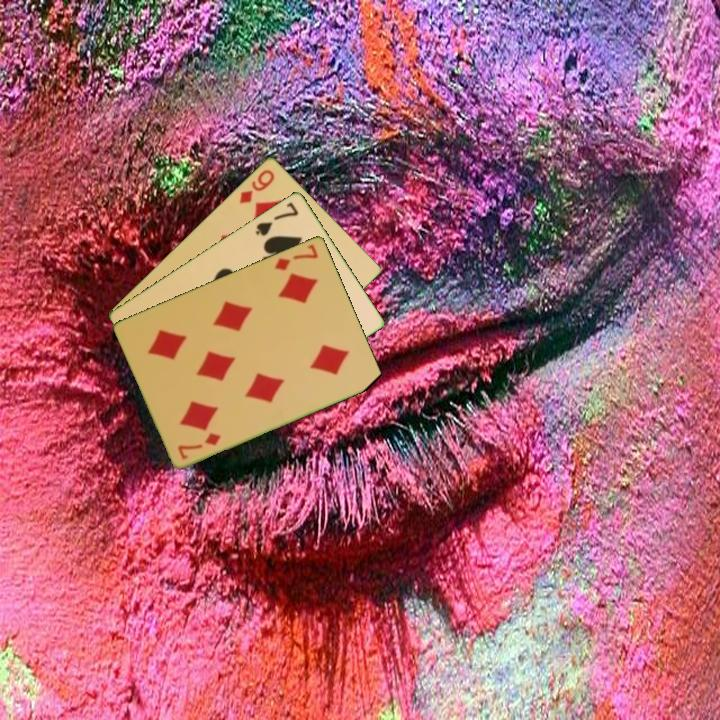7d: (271, 240, 321, 273), (174, 429, 224, 462)
7s: (252, 198, 302, 239)
9d: (235, 165, 278, 206)
